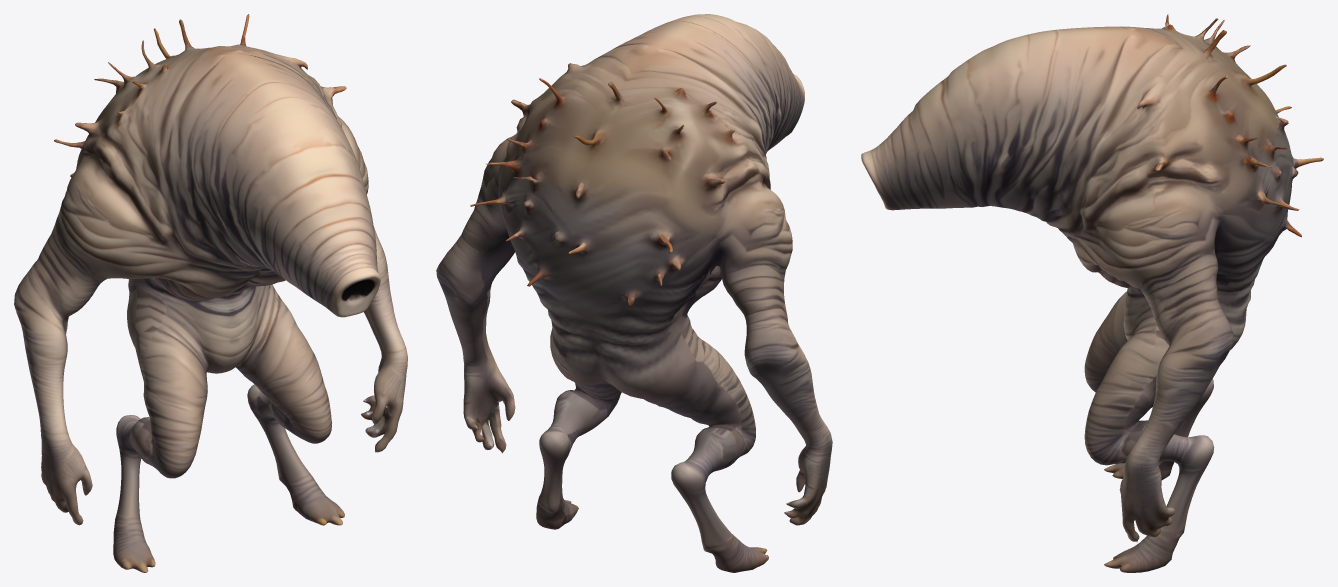
The model's file is alienMuscle.glb.
3 renders of one model, left to right at view 1: azimuth 30°, elevation 25°; view 2: azimuth 150°, elevation 25°; view 3: azimuth 270°, elevation 25°, orthographic.
Parts seen in each view (by area): view 1: Object_2; view 2: Object_2; view 3: Object_2.
Part boxes in pixels (x1,y1,x2,y2): Object_2: (14, 14, 407, 572); Object_2: (436, 14, 832, 572); Object_2: (861, 14, 1323, 572).
Size of the model in its own units: 1.46 by 1.9 by 1.62.
Materials: 1 (1 with a texture image).
